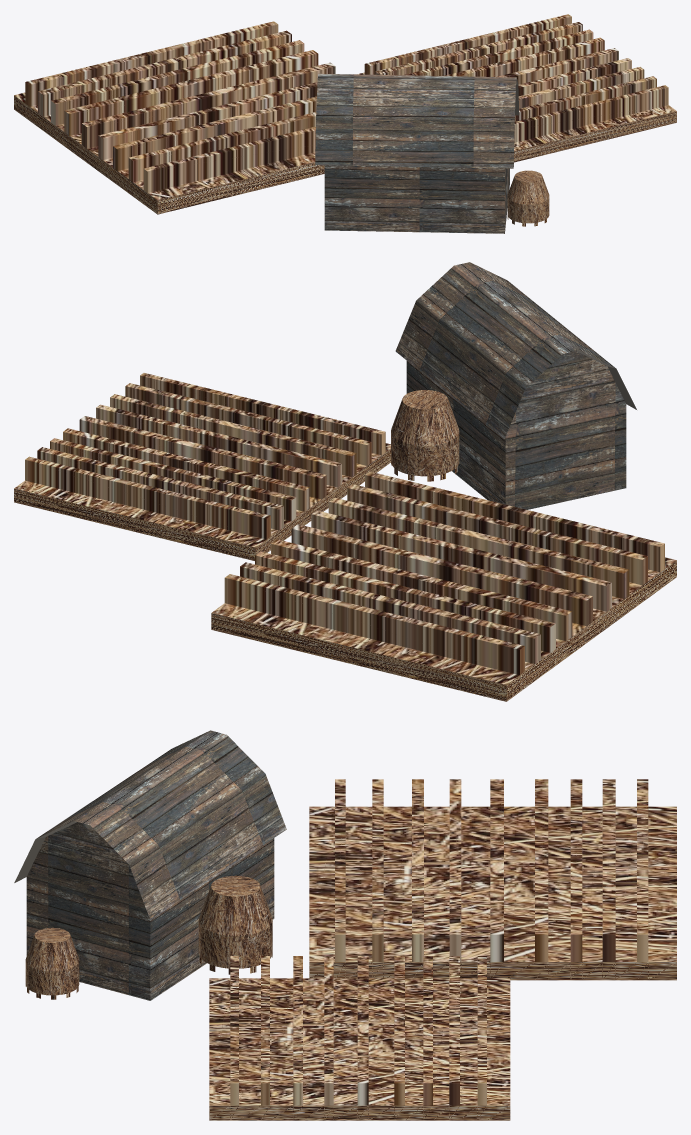
Rendered from farm.glb.
3 views of the same model, one above another, from view 1: azimuth 30°, elevation 25°; view 2: azimuth 150°, elevation 25°; view 3: azimuth 270°, elevation 25° (orthographic). The views are drawn at different scales.
Visible parts, largest first — view 1: Building; view 2: Building; view 3: Building.
Part boxes in pixels (x1,y1,x2,y2): Building: [14, 14, 676, 233]; Building: [14, 262, 676, 701]; Building: [14, 730, 676, 1120].
Bounding box in the file's own units: 9.3 × 2.46 × 8.69.
Materials: 3 (3 with a texture image).
